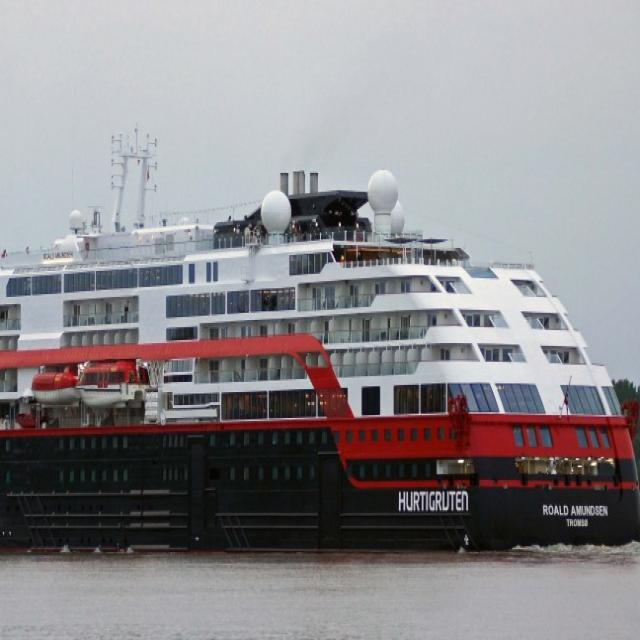cruises: (1, 119, 640, 556)
